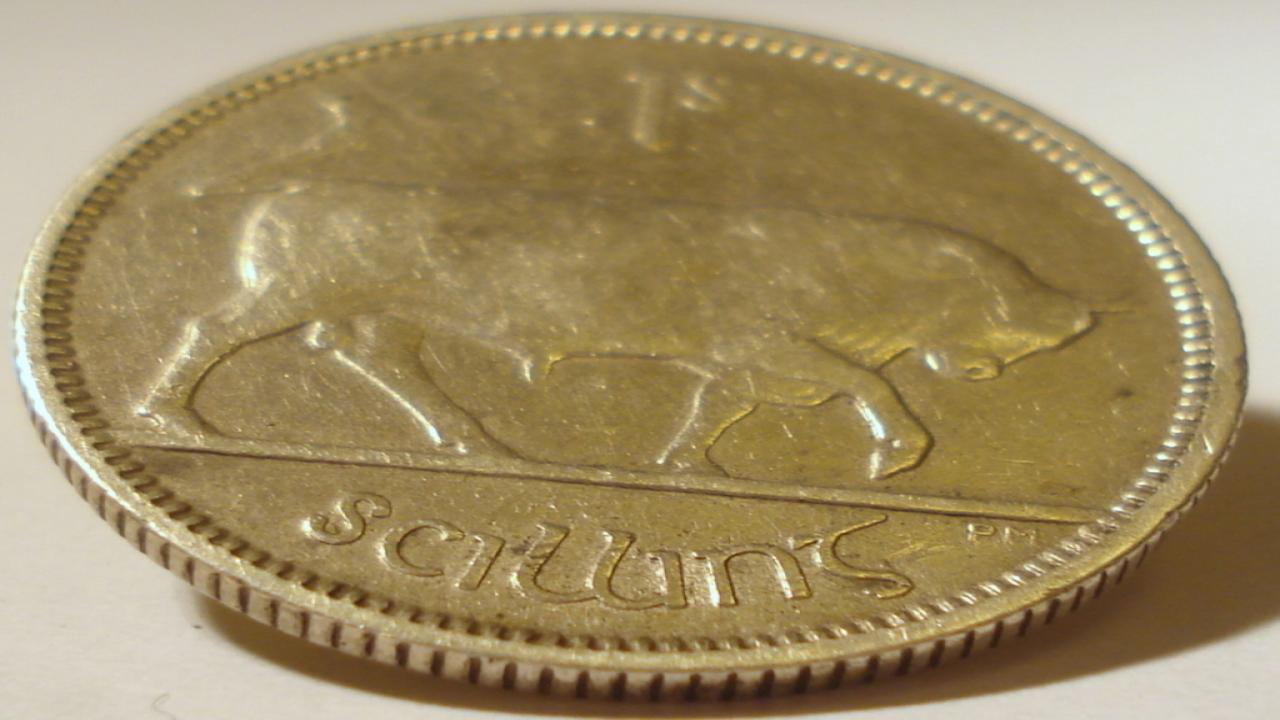coin: (14, 12, 1250, 709)
